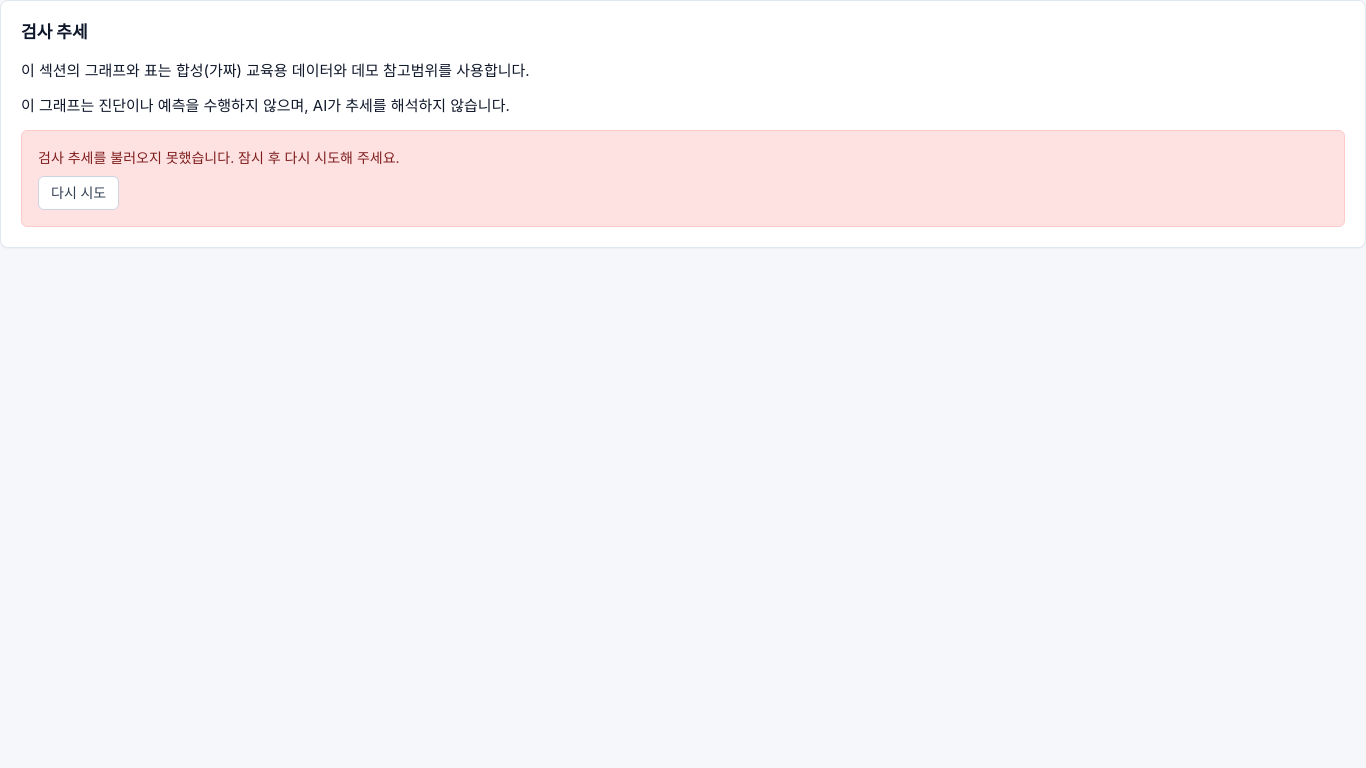
Test case: LabTrendSection › shows a generic error with a working retry button on a server error
What coordinates should you click on to do the following:
click the button "다시 시도"
I would click on:
 (79, 193)
Its box is 38,176 -> 119,210.
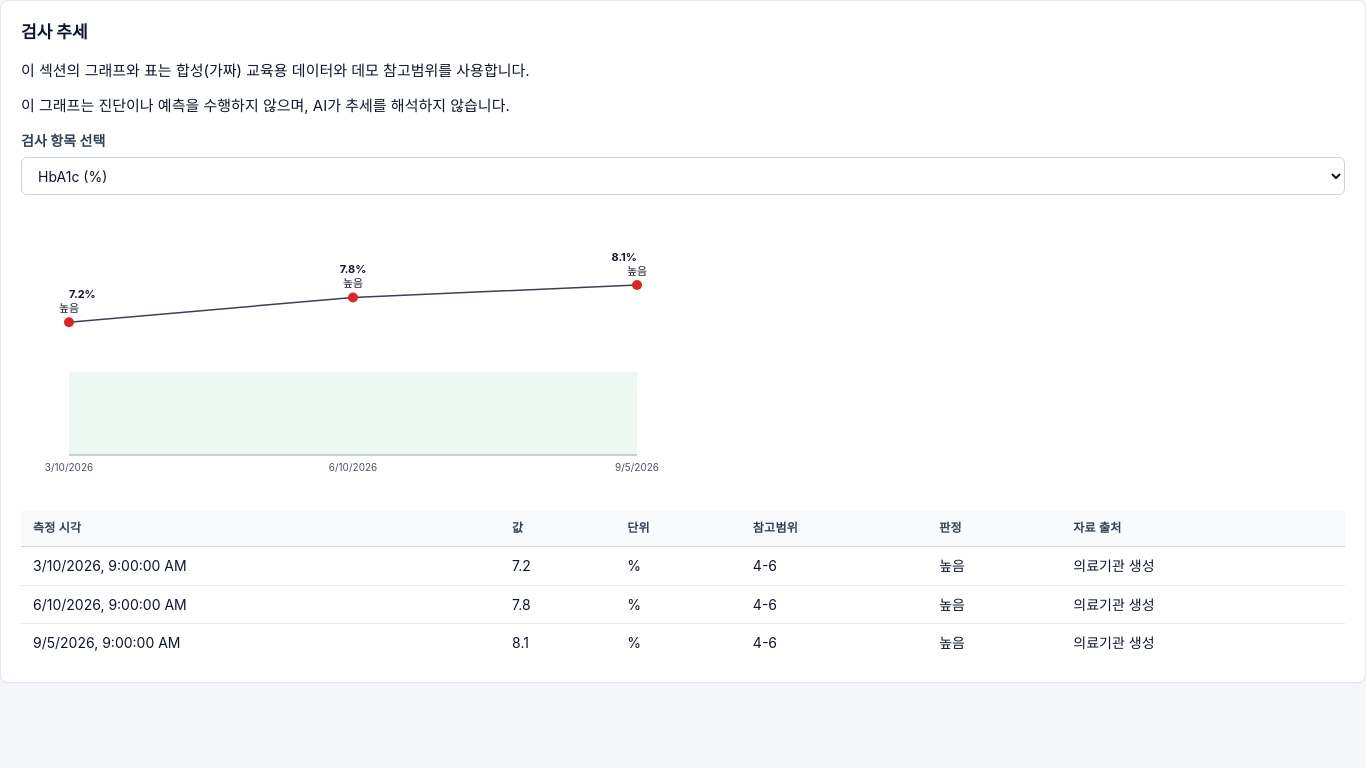
Expected: the table is shown, 21,511 -> 1345,662
